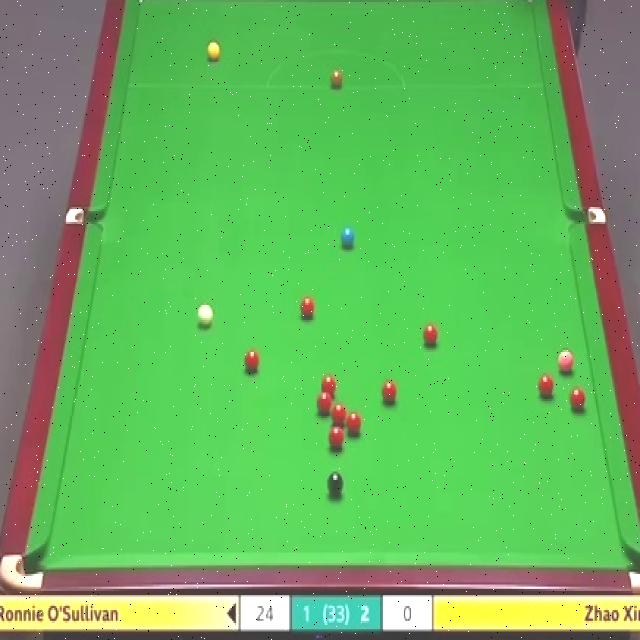black-ball: (328, 471, 344, 497)
blue-ball: (342, 225, 355, 249)
brown-ball: (329, 70, 345, 88)
pink-ball: (557, 349, 574, 373)
red-ball: (382, 378, 399, 407), (568, 387, 588, 411), (346, 410, 362, 436), (538, 373, 554, 399), (298, 297, 316, 320), (317, 392, 332, 417), (423, 323, 438, 347), (328, 426, 343, 450), (244, 347, 259, 371), (332, 406, 348, 428), (321, 375, 335, 398)
white-ball: (197, 303, 212, 327)
yellow-ball: (206, 40, 221, 63)
